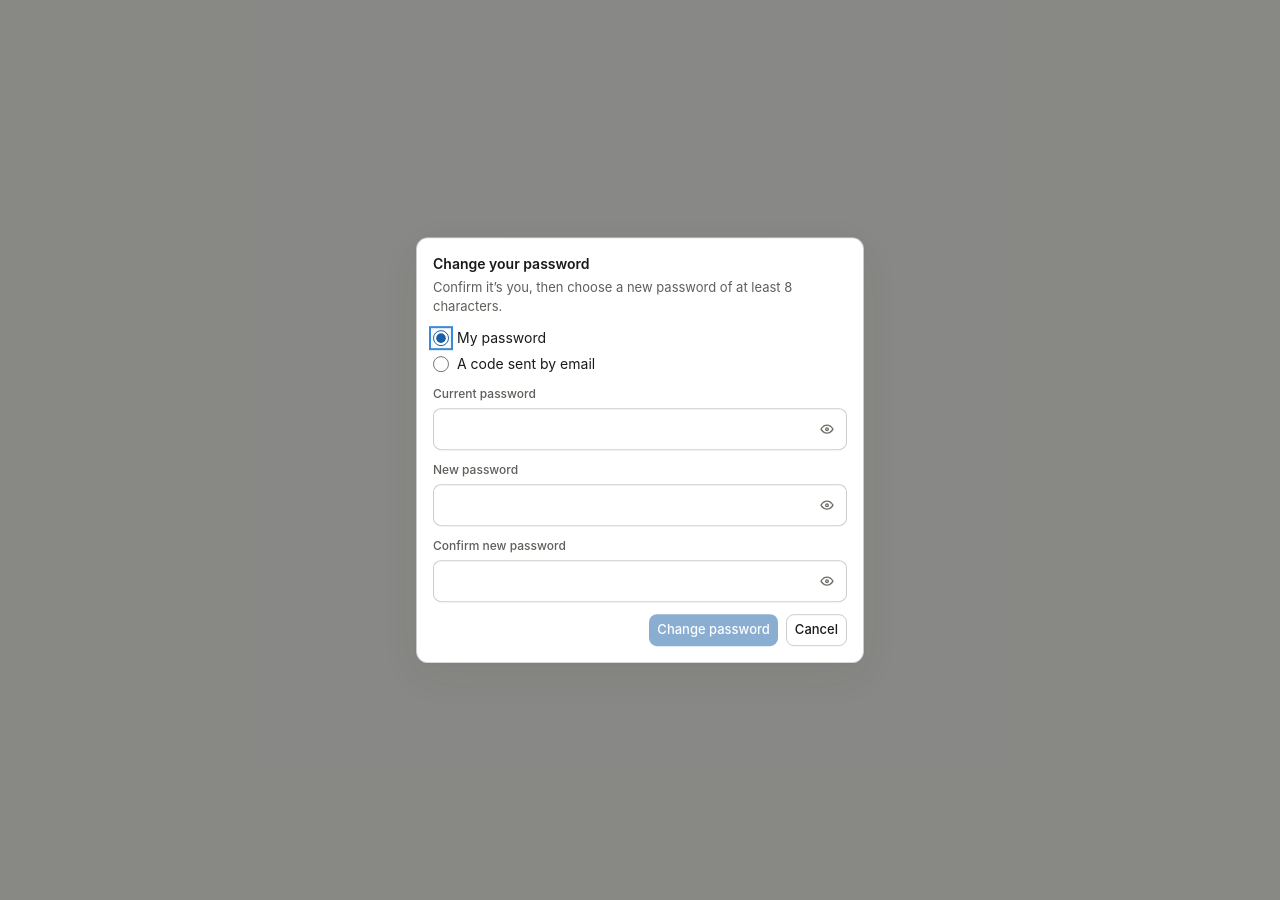
Test: ChangePasswordDialog › shows the too-short hint, and does not submit, for a new password under 8 characters
Type "old-password" into the password field labelled "Current password" at (640, 429), box [433,408,847,450]
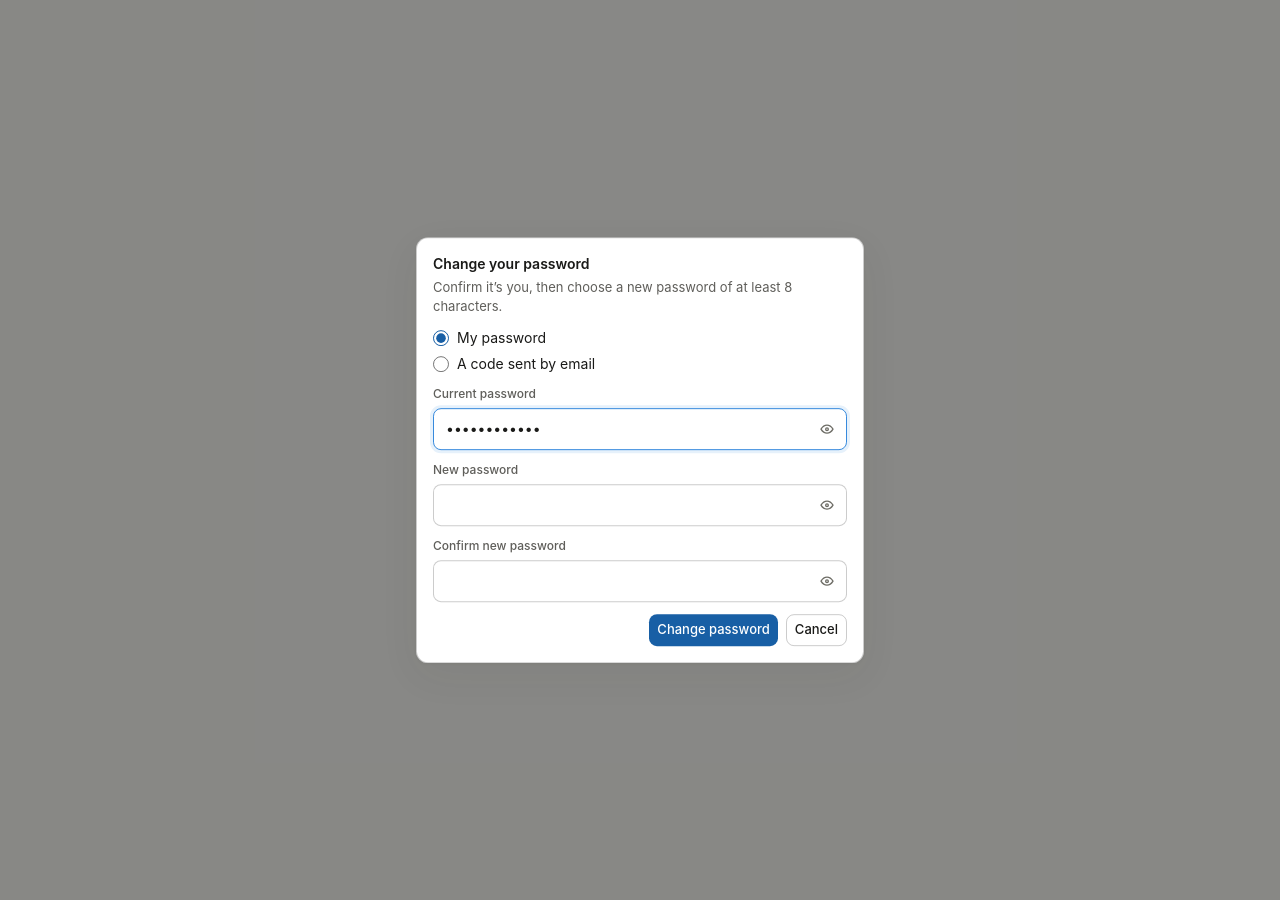
Type "short" into the password field labelled "New password" at (640, 505), box [433,484,847,526]
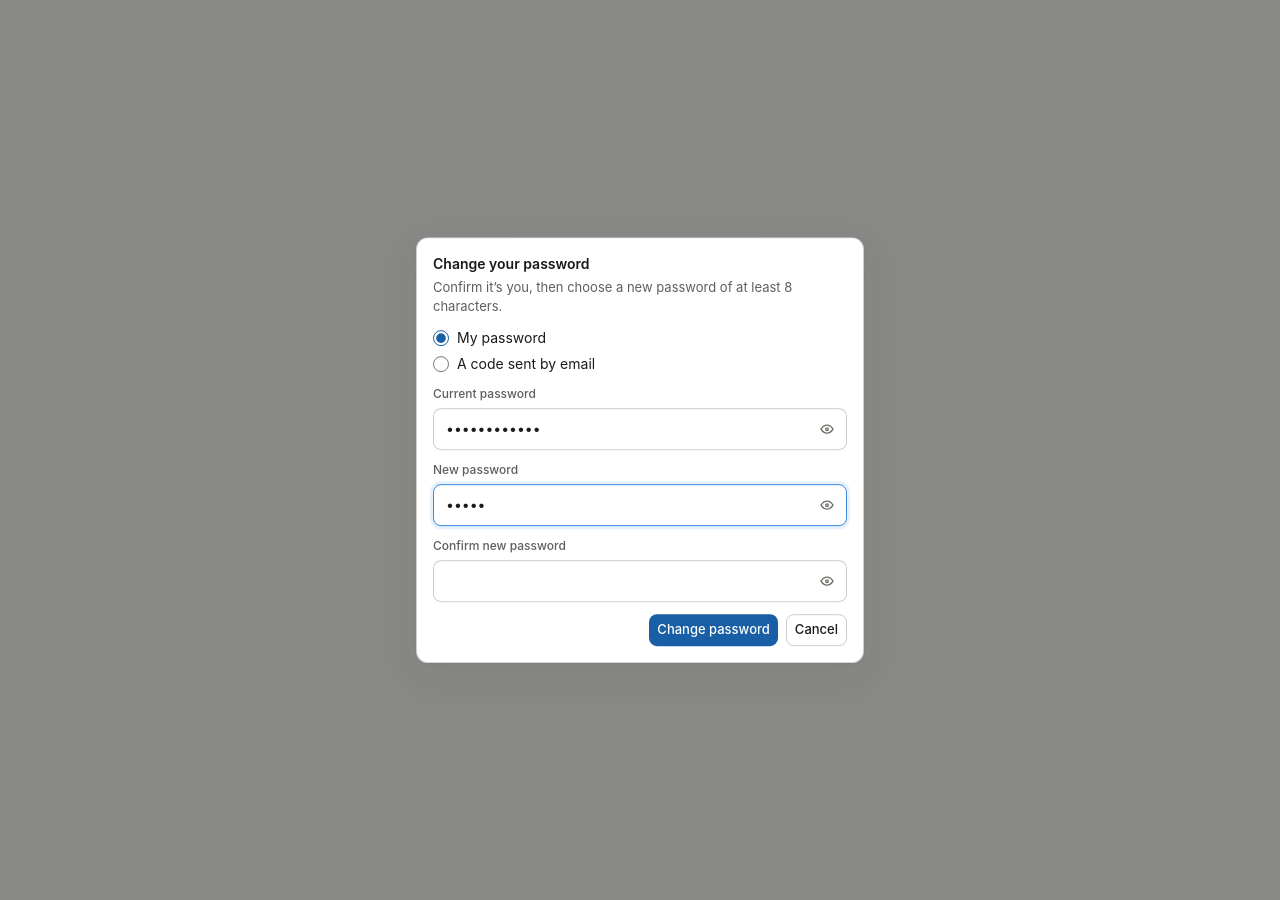
Type "short" into the password field labelled "Confirm new password" at (640, 581), box [433,560,847,602]
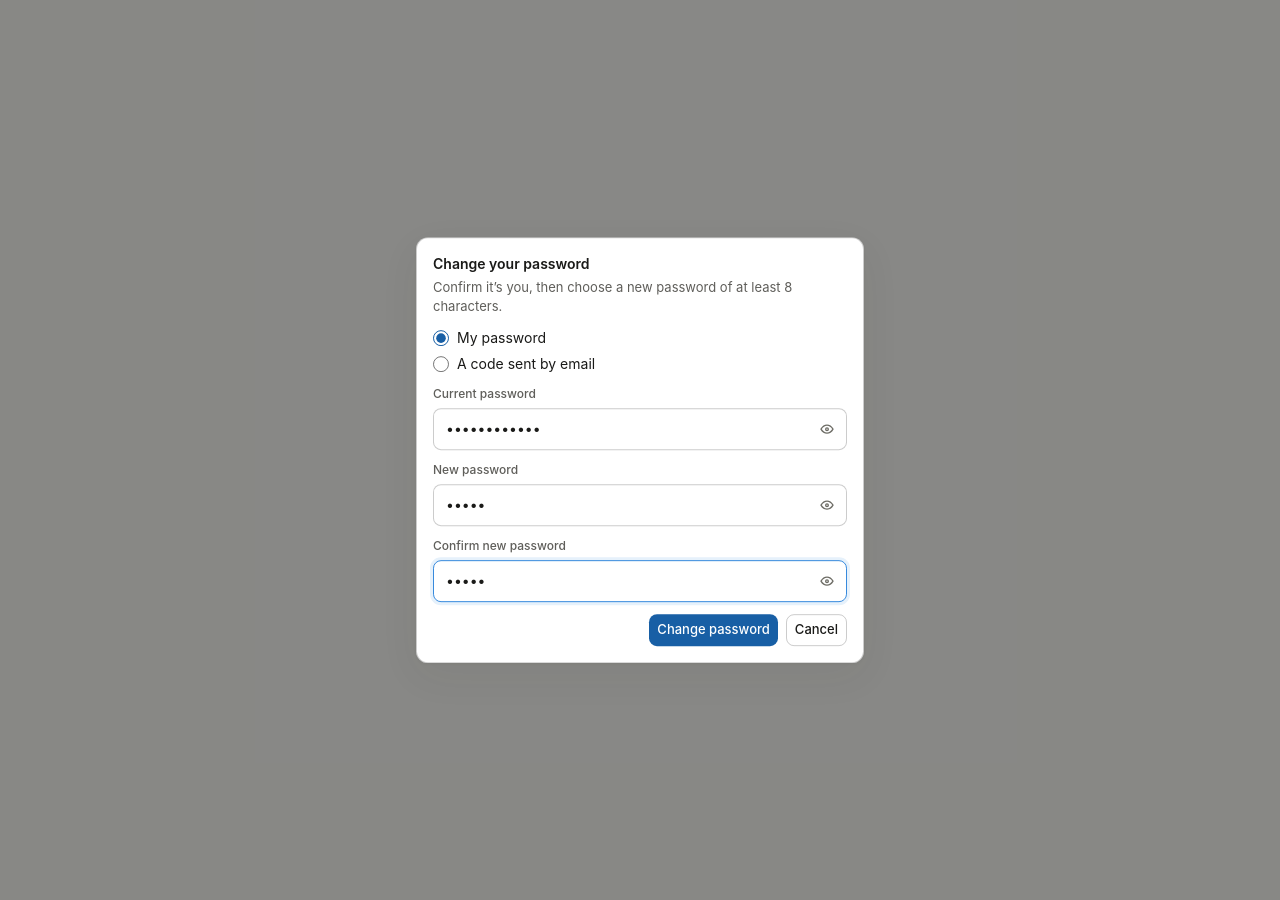
Click the button "Change password" at (714, 630), box [649,614,778,646]
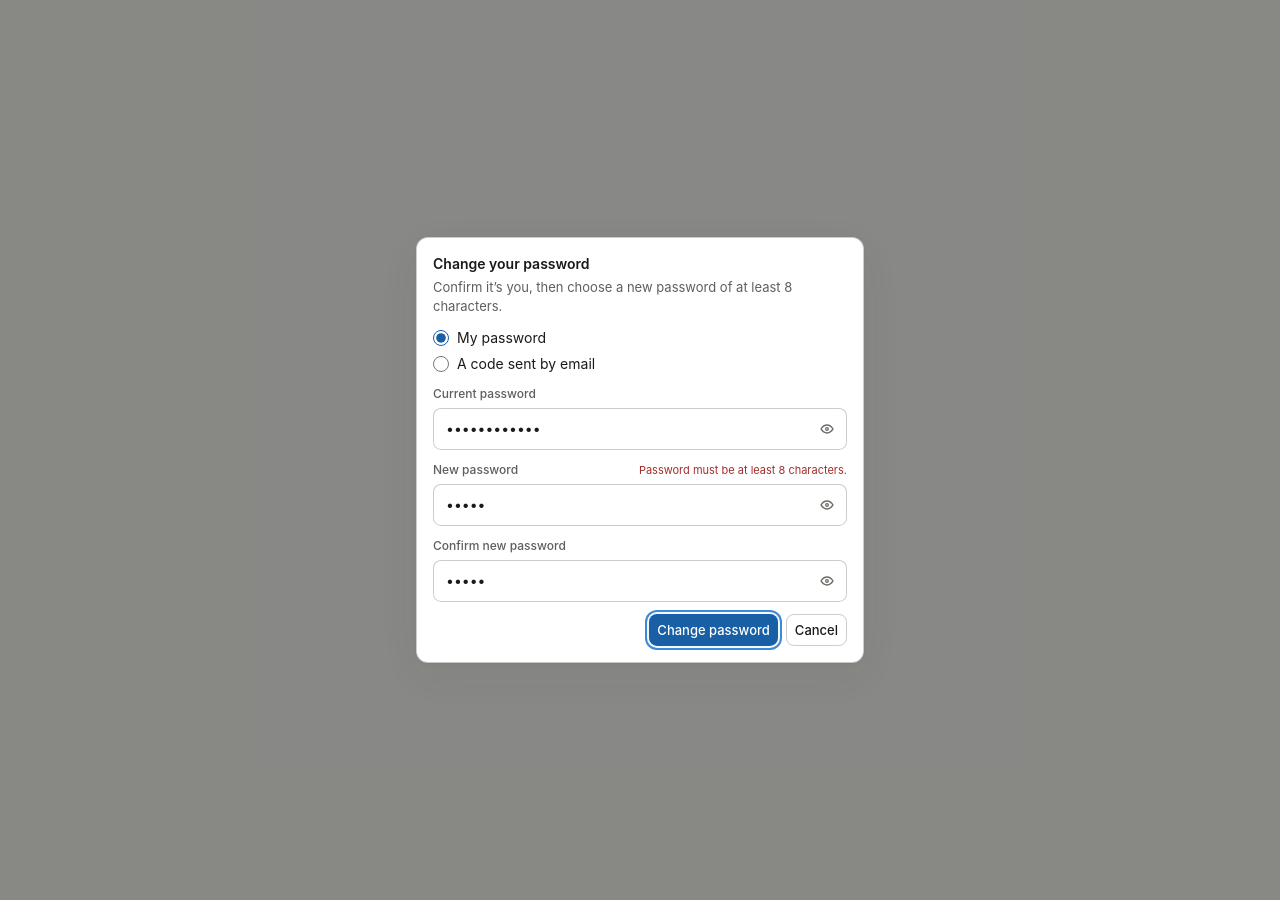
Result: the text "Password must be at least 8 characters." is shown at [639,463,847,478]
